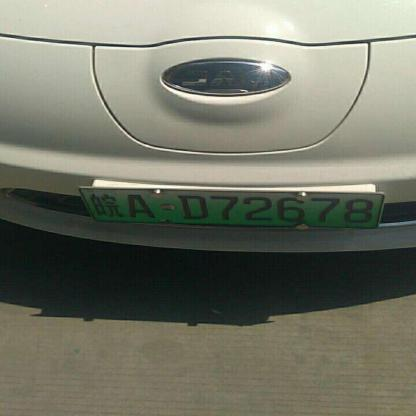lp: (80, 188, 382, 226)
